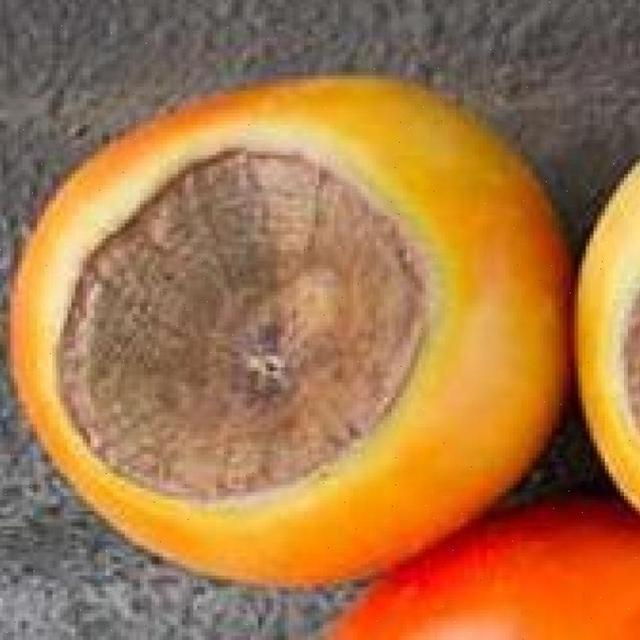Blossom End Rot Fruit: (13, 114, 420, 250)
